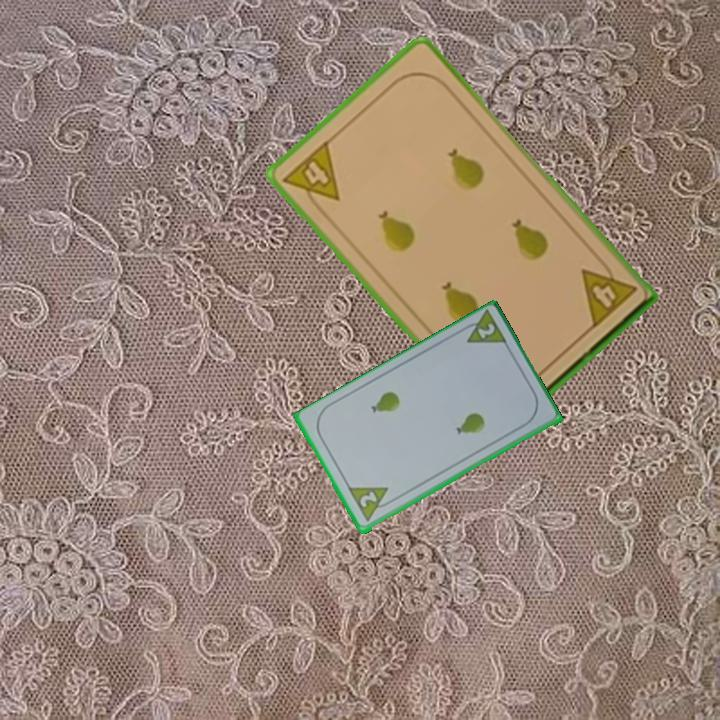2p: (456, 308, 510, 349), (356, 488, 380, 511)
4p: (279, 136, 343, 217), (577, 253, 640, 332)
